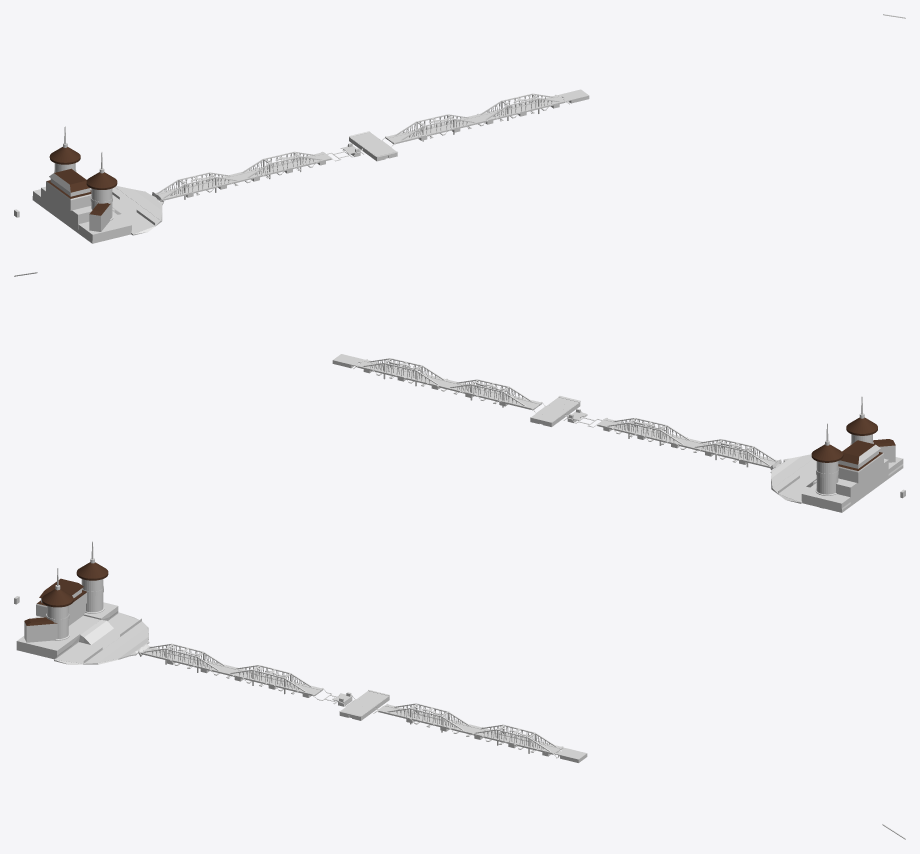
The model's file is PonteQuaseLáClan (22) (1).fbx.
3 views of the same model, one above another, from view 1: azimuth 30°, elevation 25°; view 2: azimuth 150°, elevation 25°; view 3: azimuth 330°, elevation 25° (orthographic). The views are drawn at different scales.
Parts seen in each view (by area): view 1: Cube.081, Cubo, Cube.049, Cube.060, Cube.084, Cube.100, Cube.085, Cube.083, Cylinder.019, Cylinder.020; view 2: Cube.081, Cubo, Cube.049, Cube.060, Cylinder.017, Cube.084, Cube.100, Cube.085, Cylinder.020, Cylinder.019; view 3: Cube.081, Cubo, Cube.049, Cube.060, Cube.083, Cube.084, Cube.100, Cylinder.017.
Part boxes in pixels (<box>): Cube.081: <box>32,168,131,243</box>; Cubo: <box>90,186,163,235</box>; Cube.049: <box>385,95,565,144</box>; Cube.060: <box>152,152,331,201</box>; Cube.084: <box>388,97,562,141</box>; Cube.100: <box>158,154,328,197</box>; Cube.085: <box>349,133,389,161</box>; Cube.083: <box>89,203,110,231</box>; Cylinder.019: <box>86,152,117,189</box>; Cylinder.020: <box>49,126,80,164</box>; Cube.081: <box>801,440,903,512</box>; Cubo: <box>770,454,816,503</box>; Cube.049: <box>357,359,541,410</box>; Cube.060: <box>596,418,781,468</box>; Cylinder.017: <box>815,423,838,508</box>; Cube.084: <box>360,361,539,407</box>; Cube.100: <box>600,420,775,464</box>; Cube.085: <box>539,398,580,426</box>; Cylinder.020: <box>811,424,843,462</box>; Cylinder.019: <box>846,397,877,435</box>; Cube.081: <box>16,578,118,659</box>; Cubo: <box>54,612,149,664</box>; Cube.049: <box>378,704,562,754</box>; Cube.060: <box>138,646,323,696</box>; Cube.083: <box>24,617,57,642</box>; Cube.084: <box>381,706,559,751</box>; Cube.100: <box>143,648,319,693</box>; Cylinder.017: <box>81,541,104,613</box>.
Size of the model in its own units: 117109 by 10123 by 14576.
